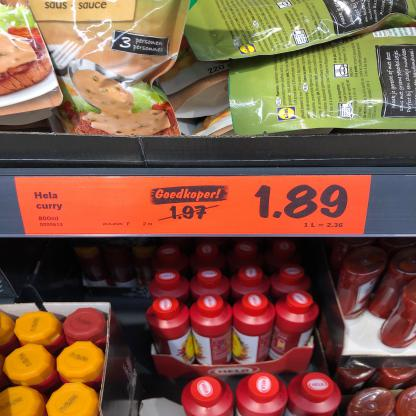prtg: (14, 176, 373, 235)
